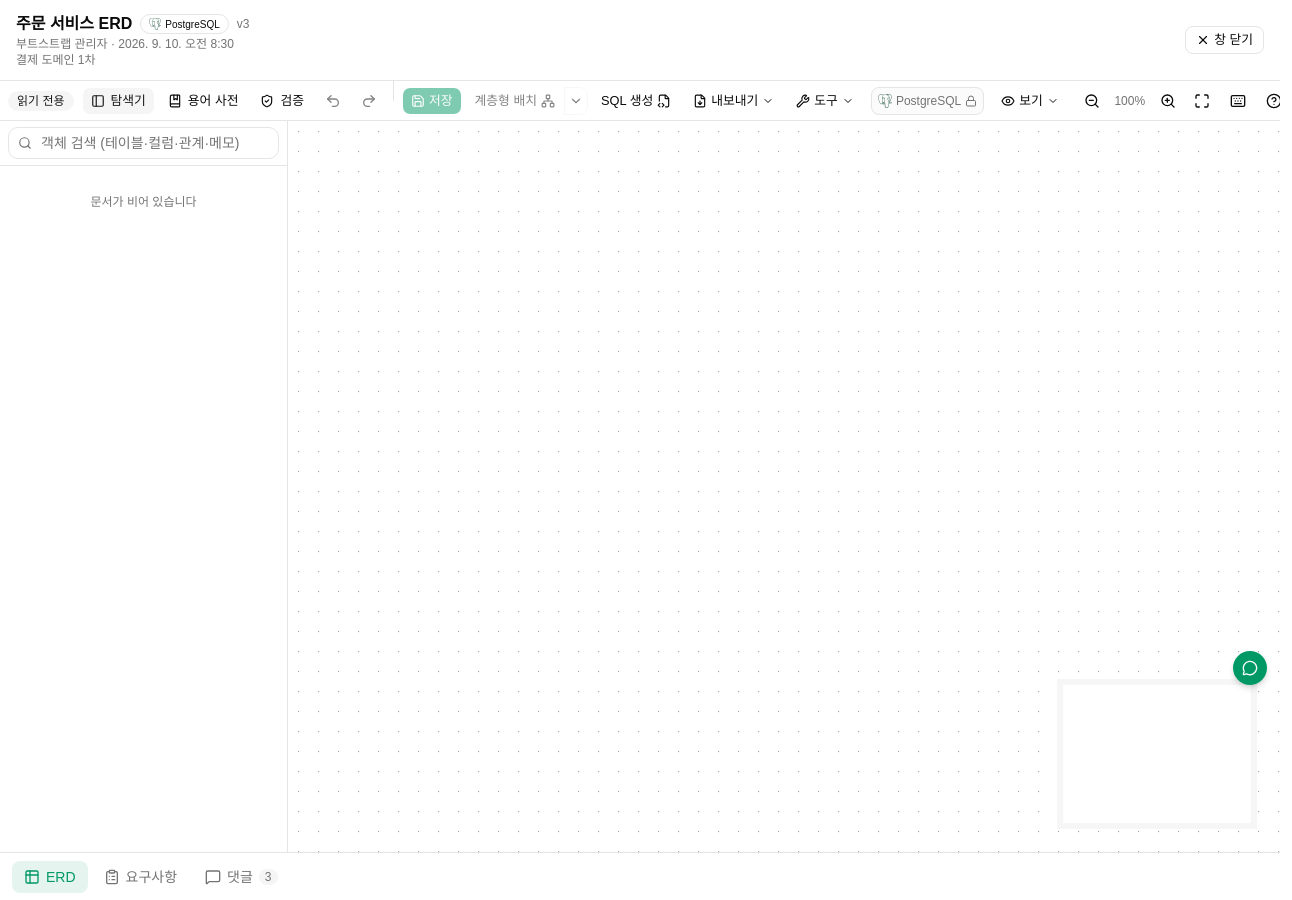
ERD 문서 열기 › replaces the form with a readonly notice for viewers
expect the heading "주문 서비스 ERD" is shown: met, box top-left (16, 12), bottom-right (132, 36)
Click the tab "댓글 3" at {"x": 241, "y": 876}, box top-left (193, 860), bottom-right (290, 892)
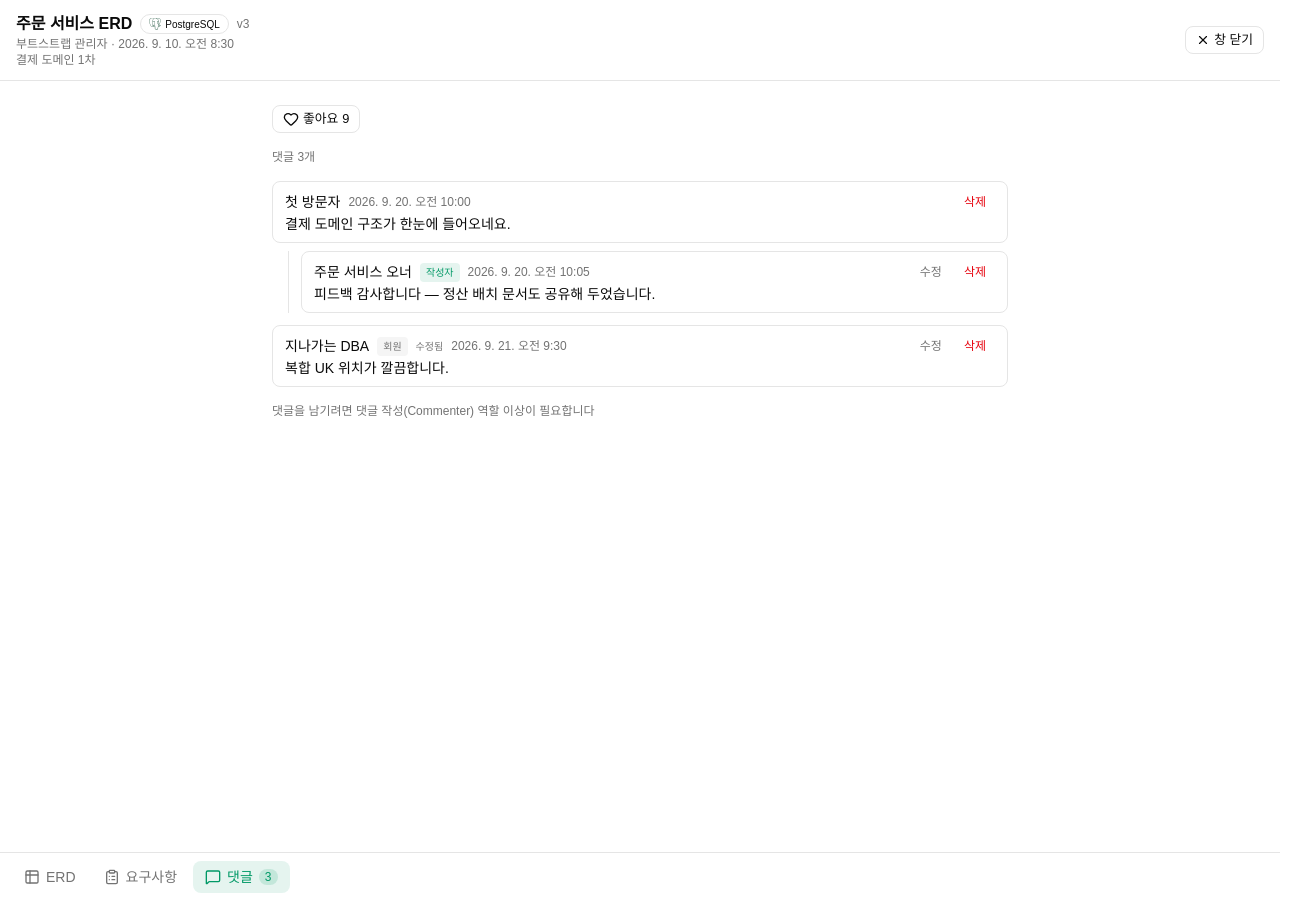
expect the element with test id "share-feedback-section" is shown: met
expect the text "댓글을 남기려면 댓글 작성(Commenter) 역할 이상이 필요합니다" is shown: met, box top-left (272, 404), bottom-right (594, 418)
expect the text with test id "share-reaction-count" reads "9": met, box top-left (342, 111), bottom-right (349, 126)
